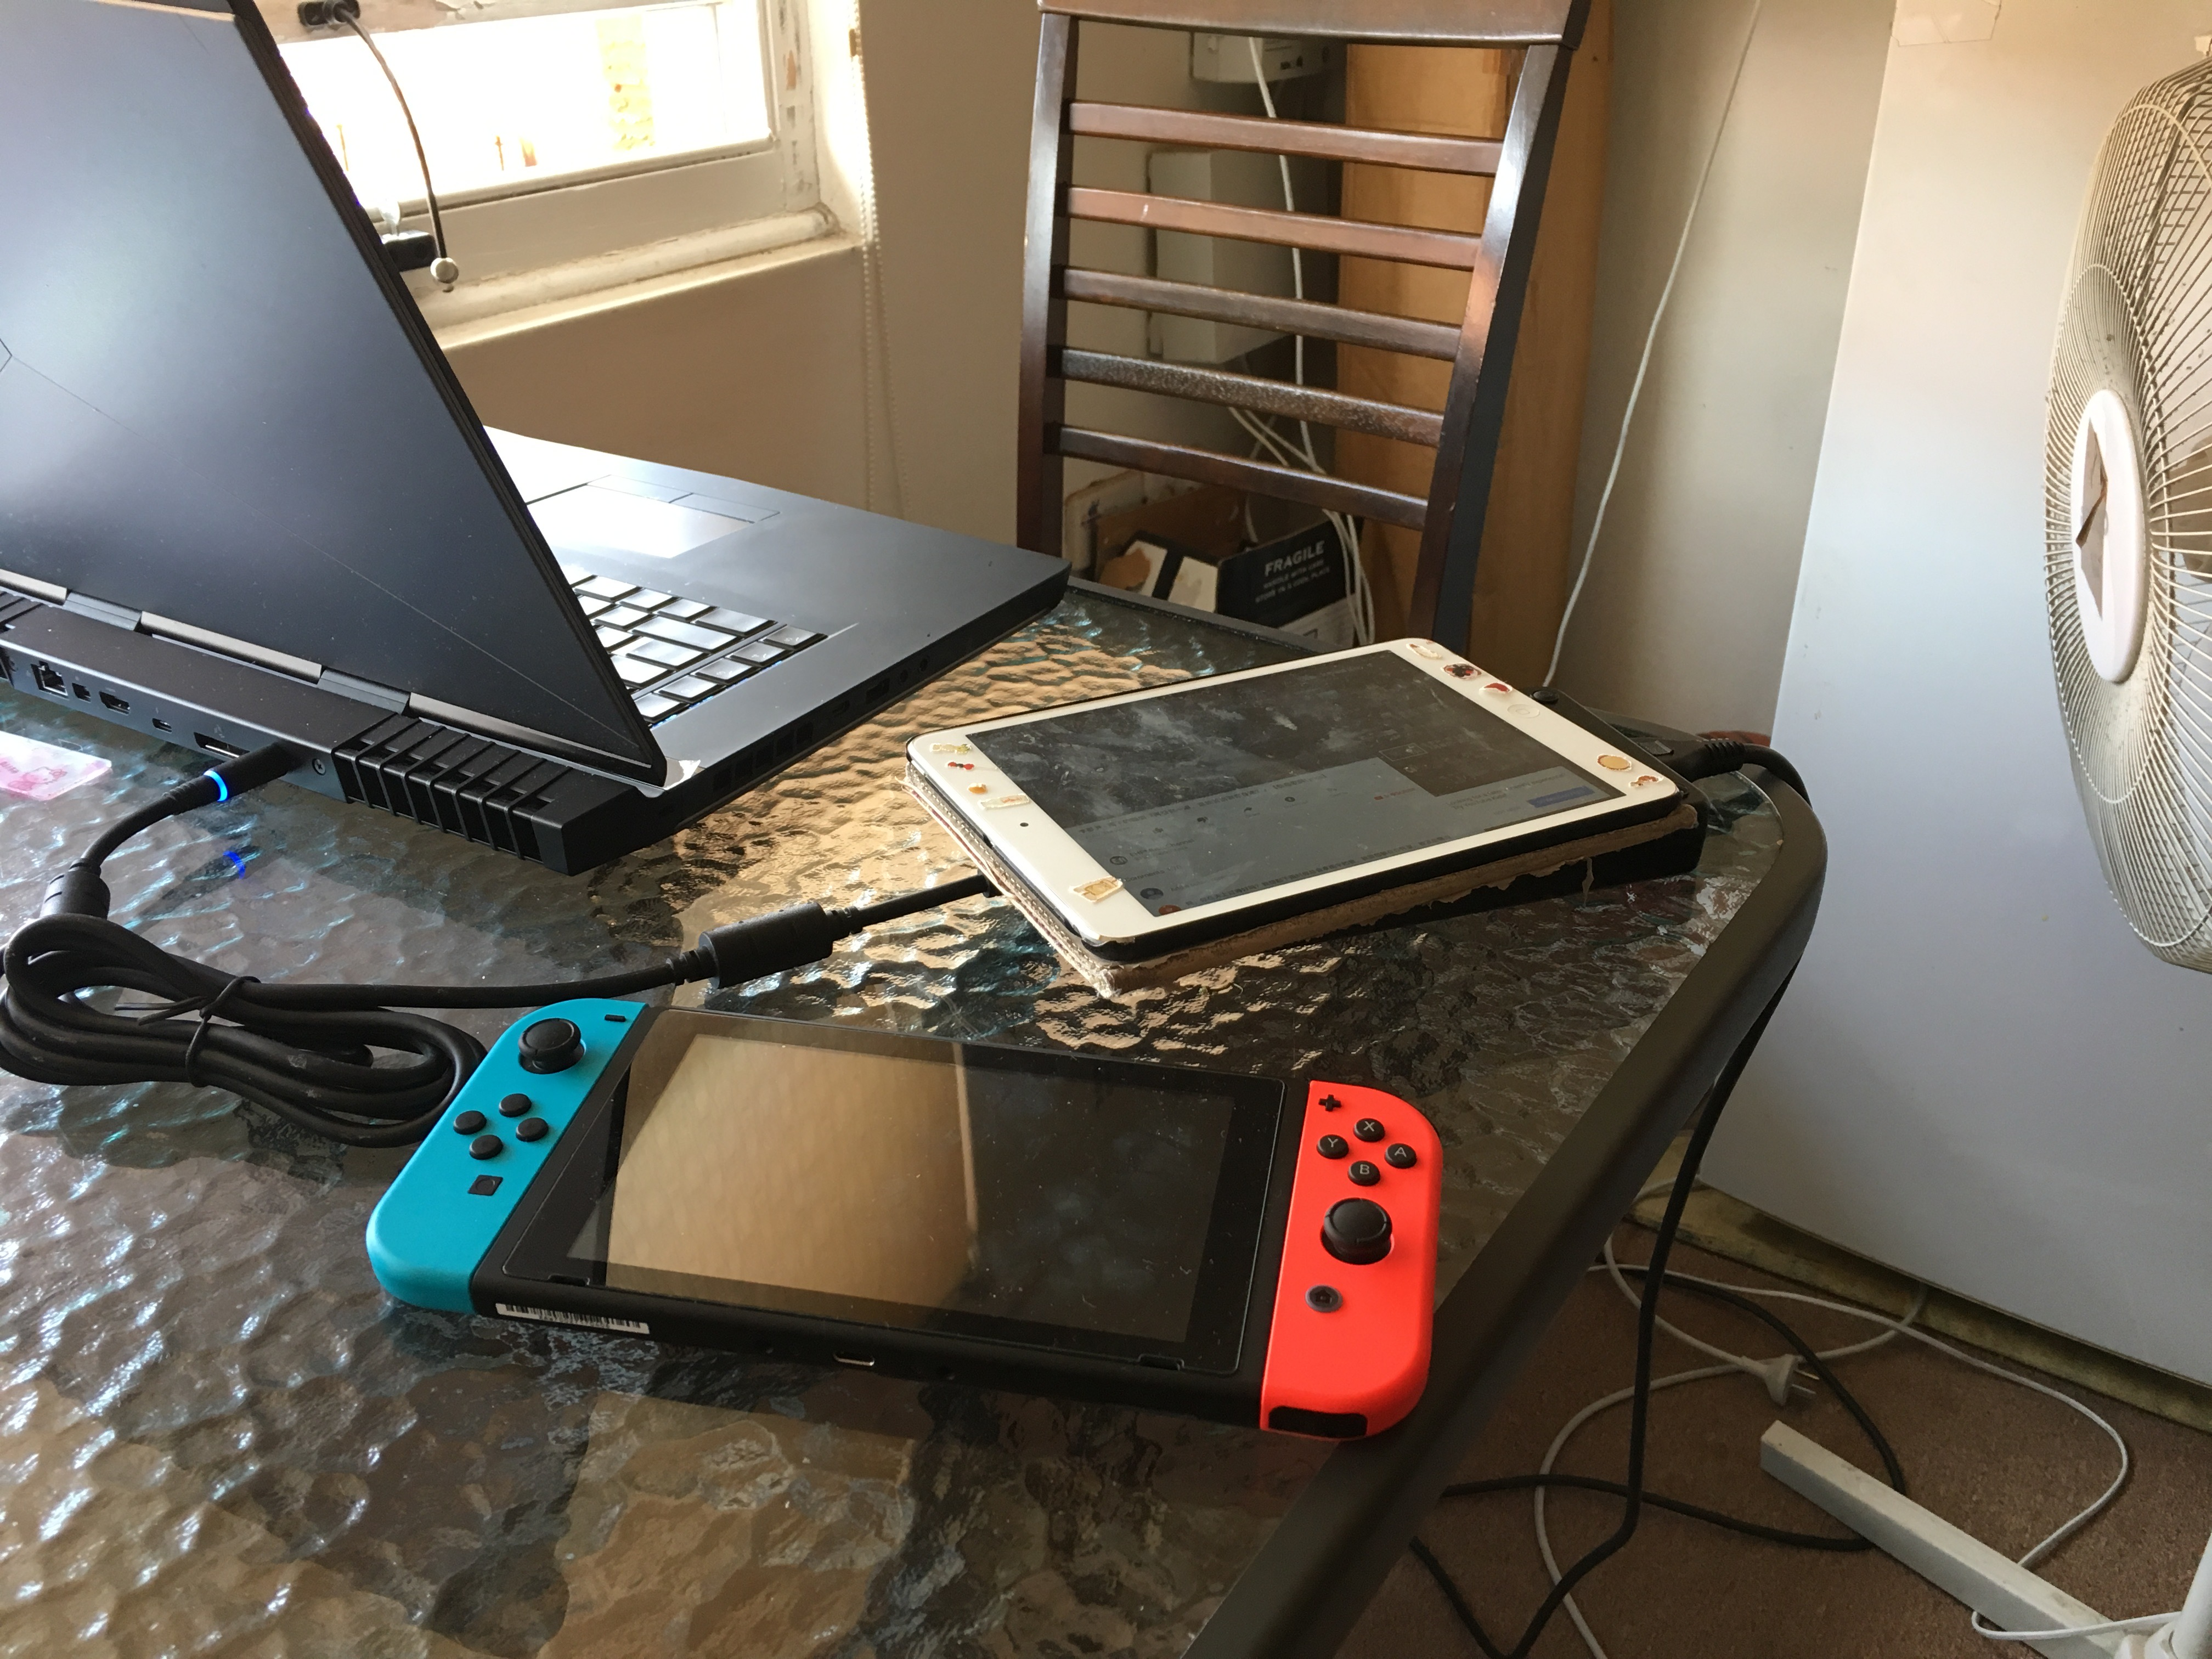NintendoSwitch: (364, 990, 1444, 1450)
